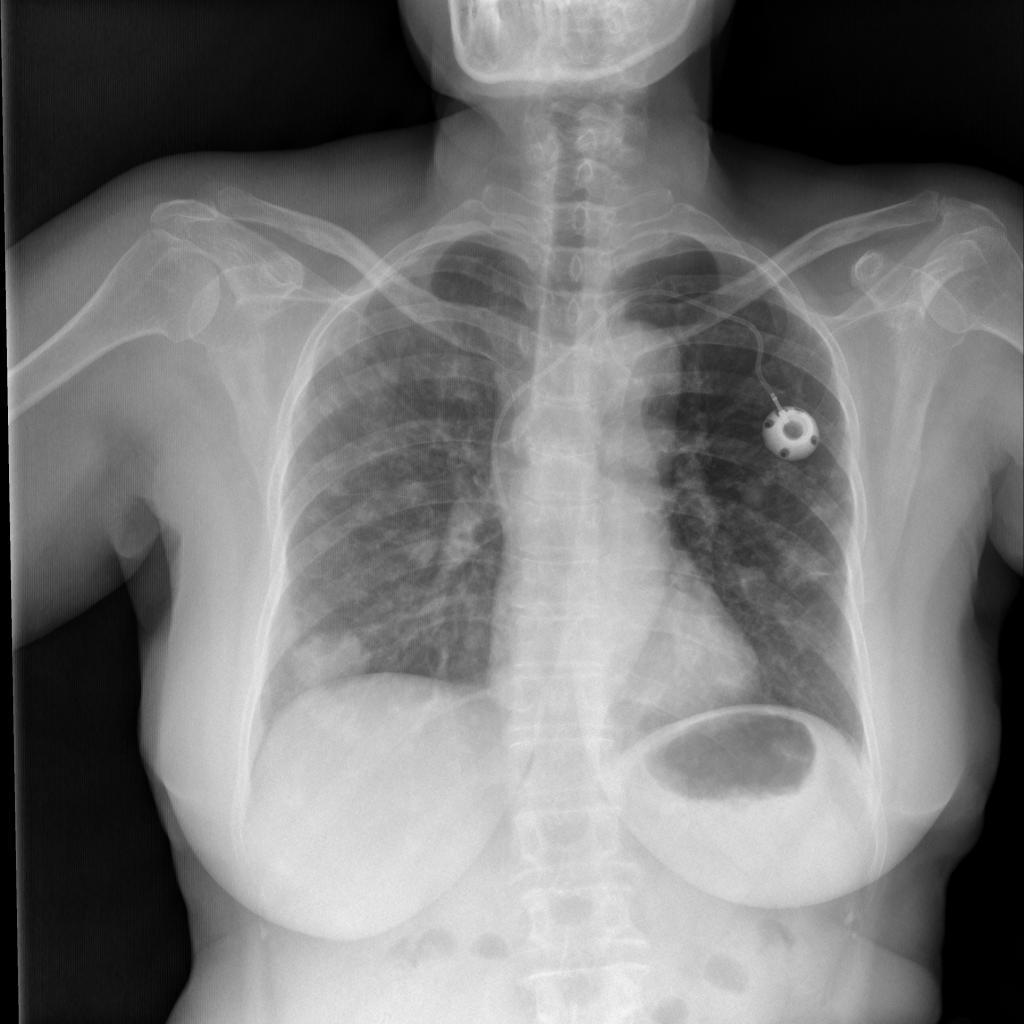Nodule: (276, 620, 380, 707)
